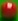red: (0, 0, 18, 21)
